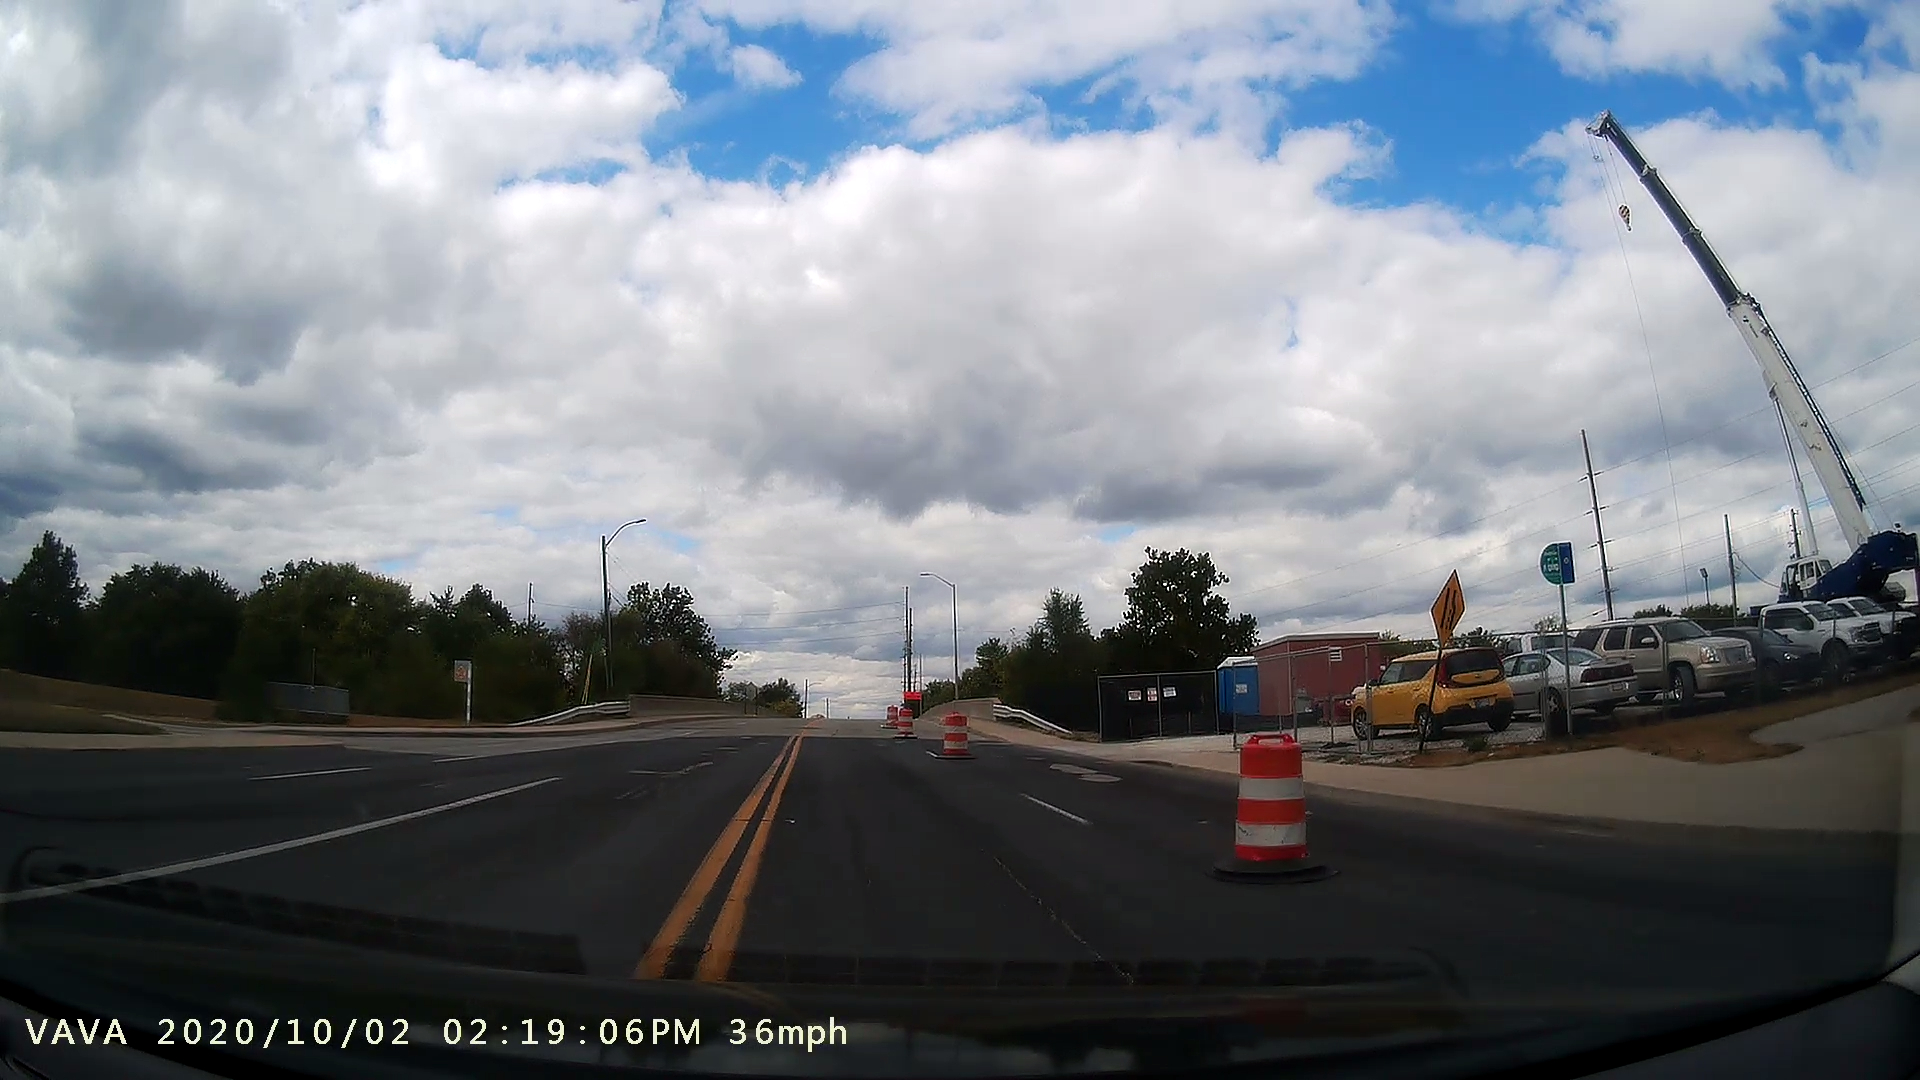const_barrel: (1195, 719, 1356, 895), (936, 698, 982, 774), (893, 709, 920, 746)
